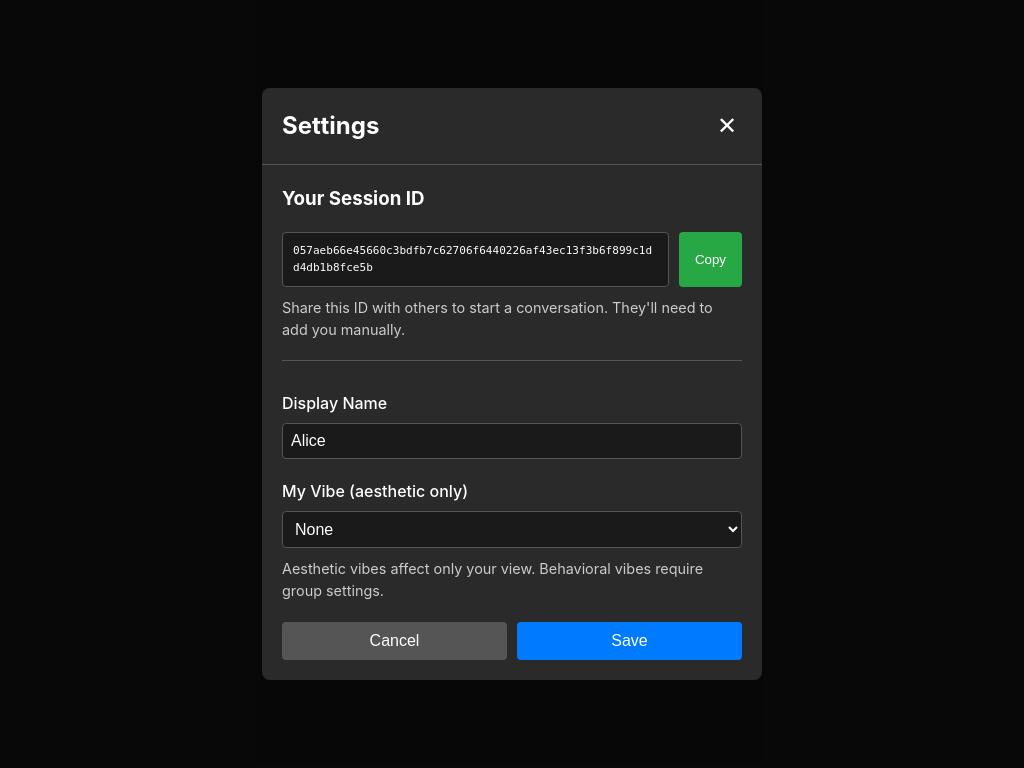
Test: SettingsPanel › copies Session ID when clicked
The width and height of the screenshot is (1024, 768).
Click the button "Copy" at (710, 260), box [679,232,742,287]
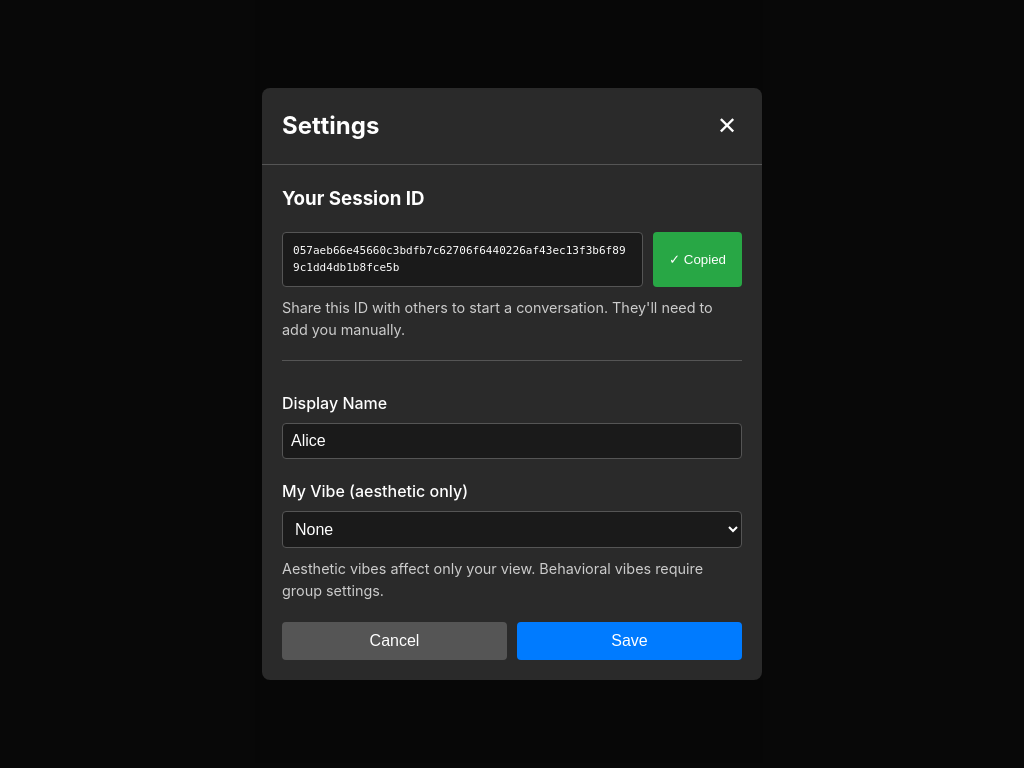
Check: the button "✓ Copied" is shown, box [653,232,742,287]
